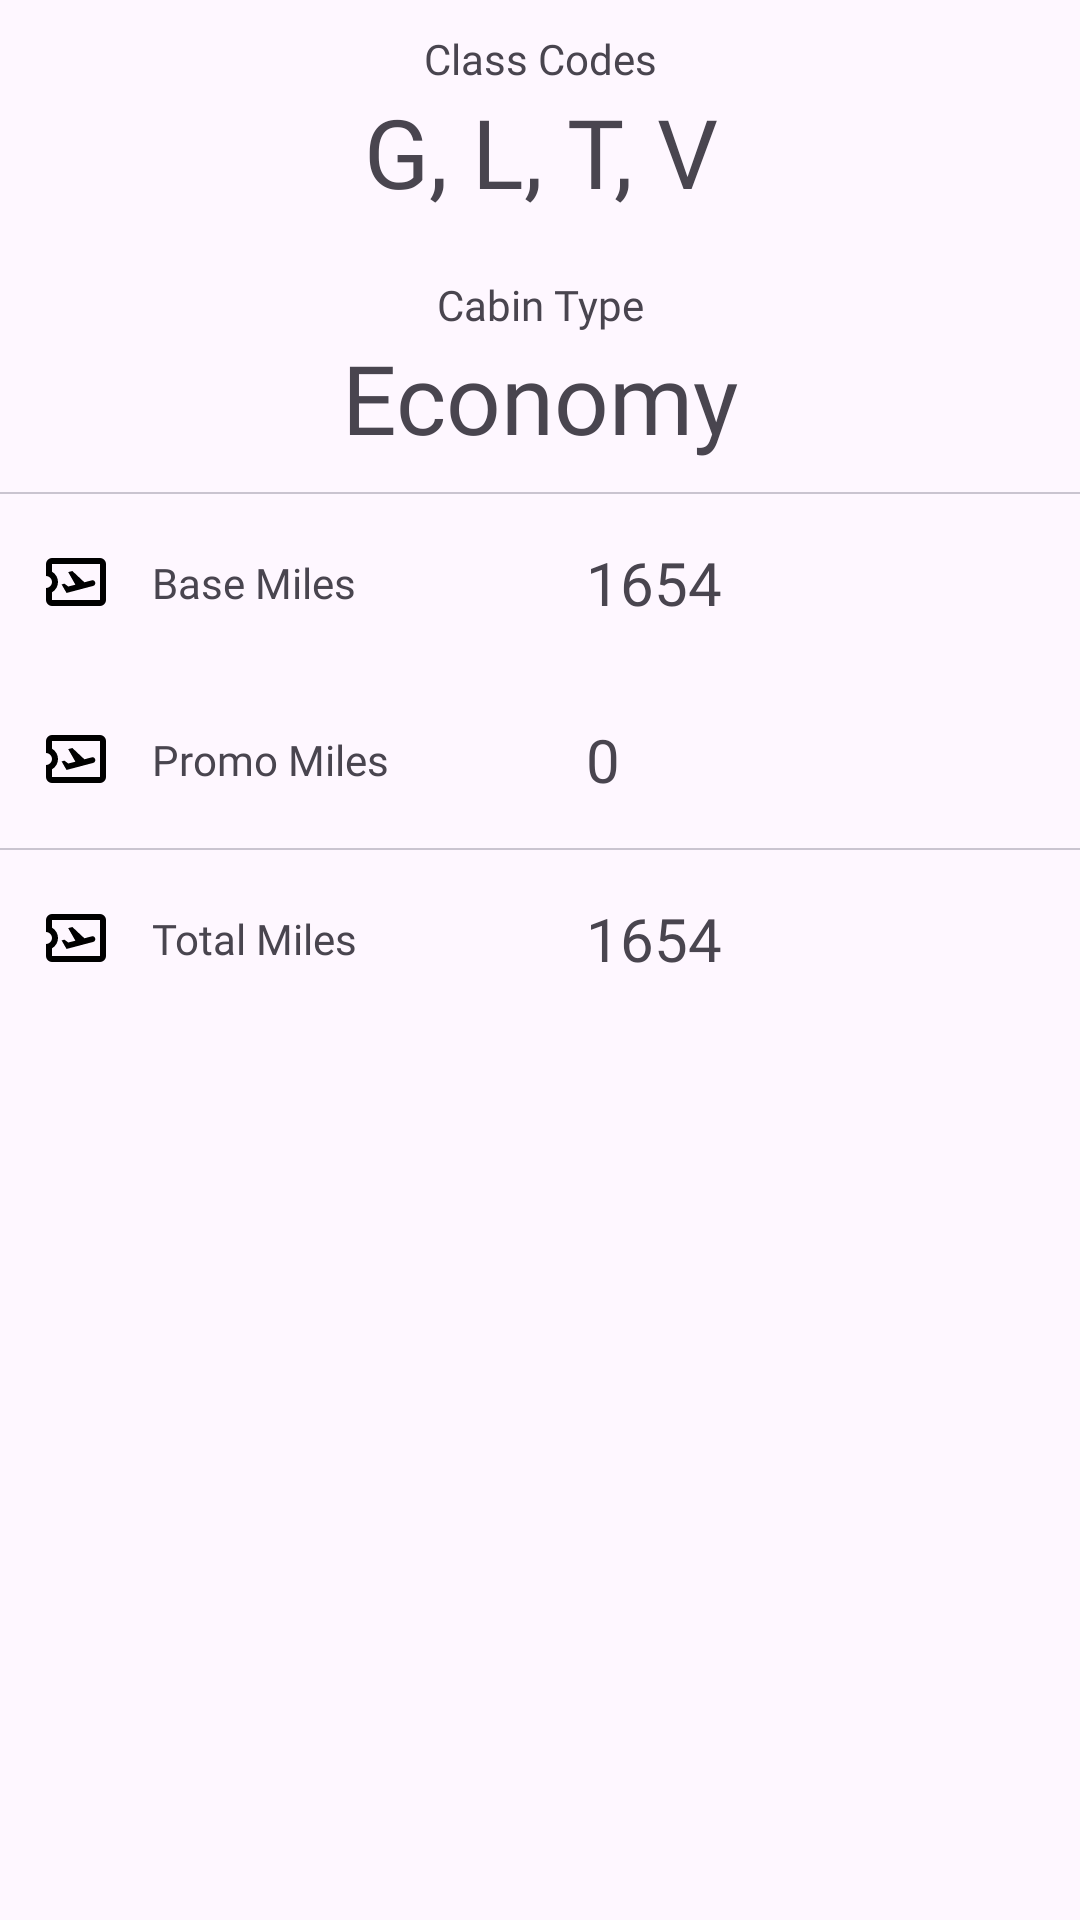

Icon click points for this 1080px x 1920px phone screenshot, format point (x, y):
airplane ticket: point (76, 582), point (76, 759), point (76, 938)
